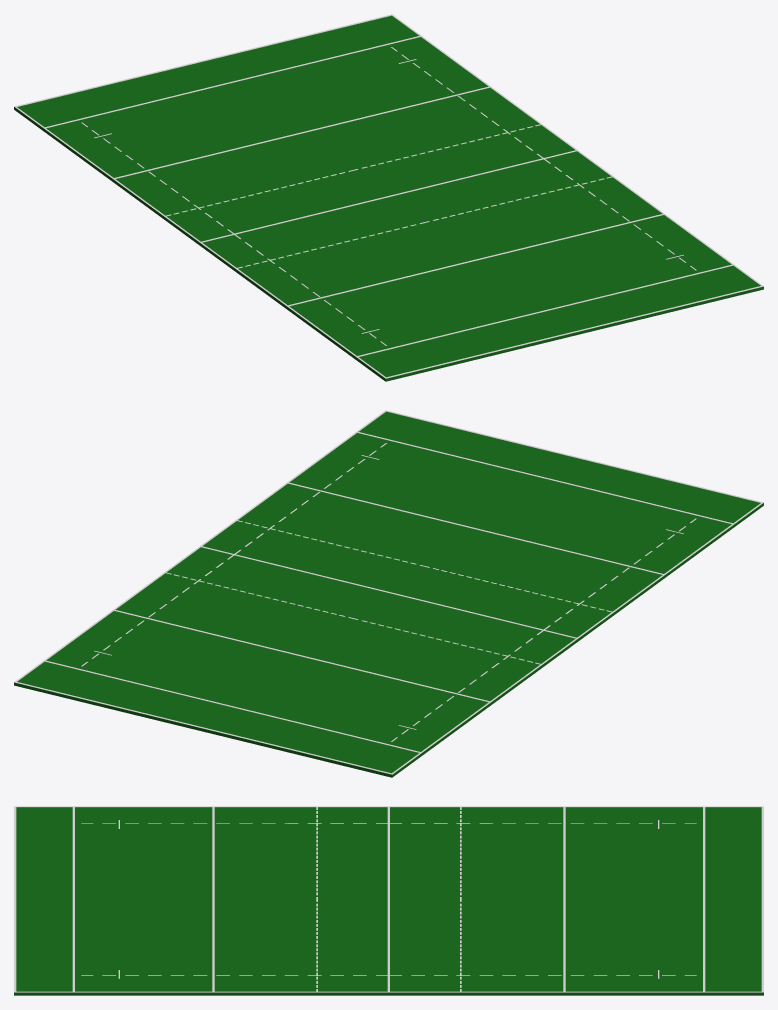
File: Rugby Field.fbx
3 renders of one model, top to bottom at view 1: azimuth 30°, elevation 25°; view 2: azimuth 150°, elevation 25°; view 3: azimuth 270°, elevation 25°, orthographic.
Visible parts, largest first — view 1: Rugby Field; view 2: Rugby Field; view 3: Rugby Field.
Part boxes in pixels (x1,y1,x2,y2): Rugby Field: [14, 14, 763, 381]; Rugby Field: [14, 410, 763, 777]; Rugby Field: [14, 806, 763, 995].
Size of the model in its own units: 13527 by 110 by 23031.
